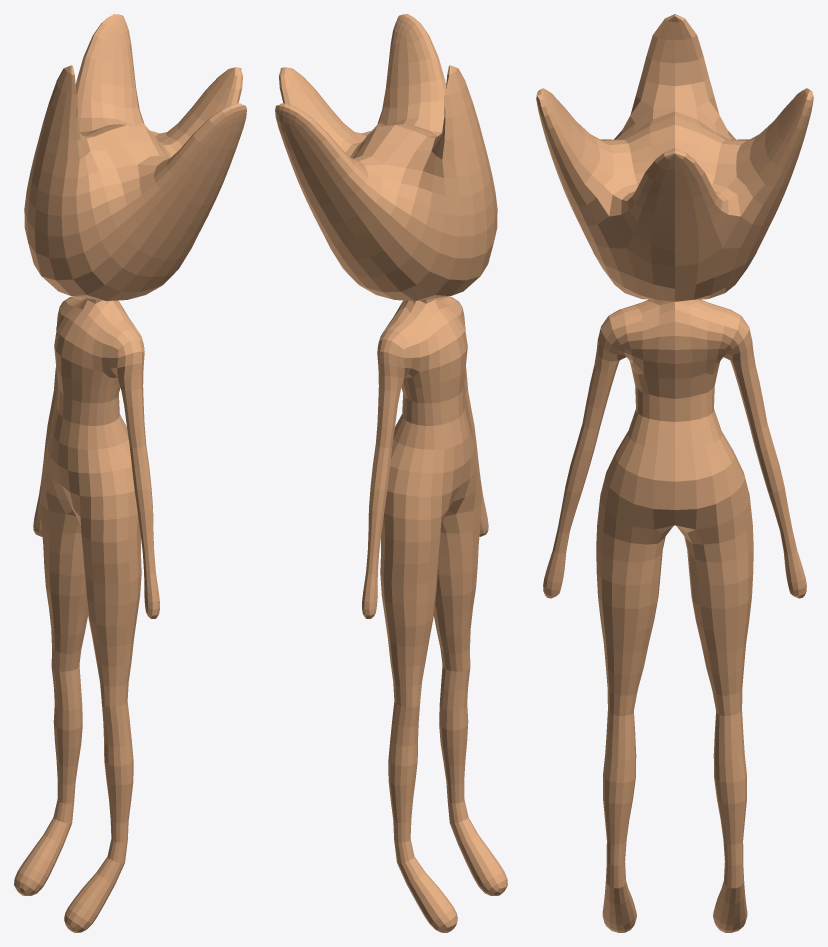
The model's file is Hada.fbx.
3 views of the same model, side by side, from view 1: azimuth 30°, elevation 25°; view 2: azimuth 150°, elevation 25°; view 3: azimuth 270°, elevation 25° (orthographic). The views are drawn at different scales.
Parts seen in each view (by area): view 1: fairy; view 2: fairy; view 3: fairy.
Part boxes in pixels (left/top/right/bottom): fairy: left=14, top=14, right=246, bottom=932; fairy: left=275, top=14, right=507, bottom=932; fairy: left=536, top=14, right=813, bottom=932.
Bounding box in the file's own units: 0.3343 × 1.3 × 0.3534.
